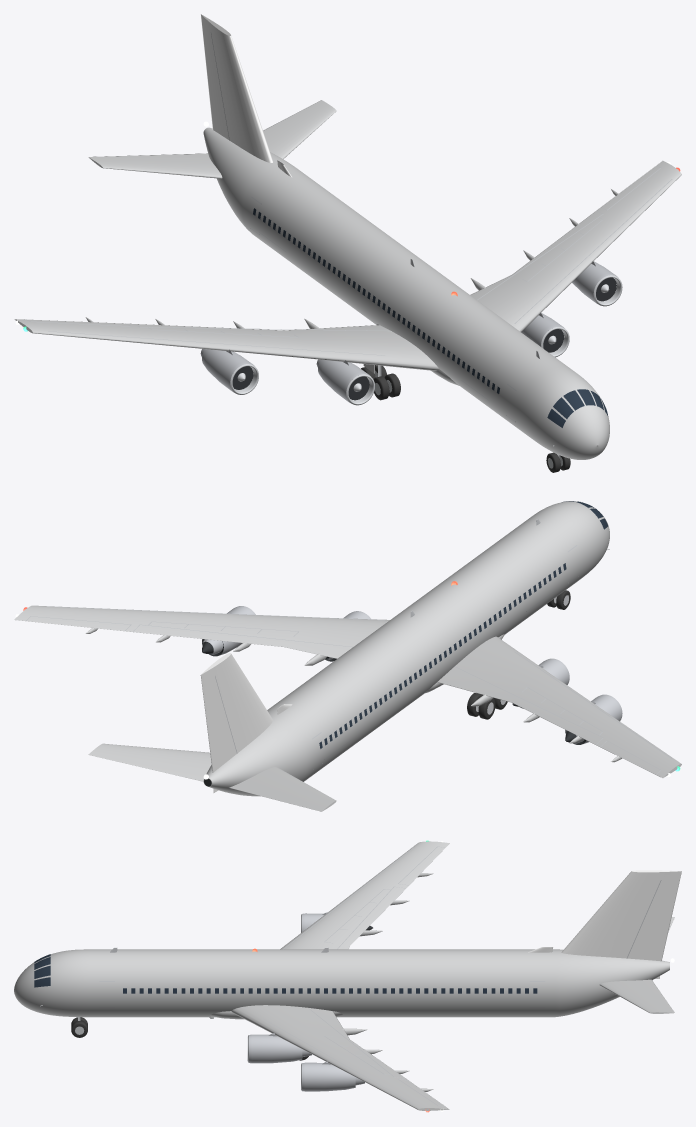
The picture shows the model from 3 angles, top to bottom: view 1: azimuth 30°, elevation 25°; view 2: azimuth 150°, elevation 25°; view 3: azimuth 270°, elevation 25°; orthographic projection. The views are drawn at different scales.
Visible parts, largest first — view 1: airframe, gear; view 2: airframe, gear; view 3: airframe.
Part boxes in pixels (left/top/right/bottom): airframe: left=14, top=14, right=681, bottom=459; gear: left=361, top=364, right=570, bottom=472; airframe: left=14, top=501, right=681, bottom=811; gear: left=467, top=590, right=570, bottom=719; airframe: left=14, top=840, right=681, bottom=1112.
Bounding box in the file's own units: 40.35 × 11.43 × 42.26.
